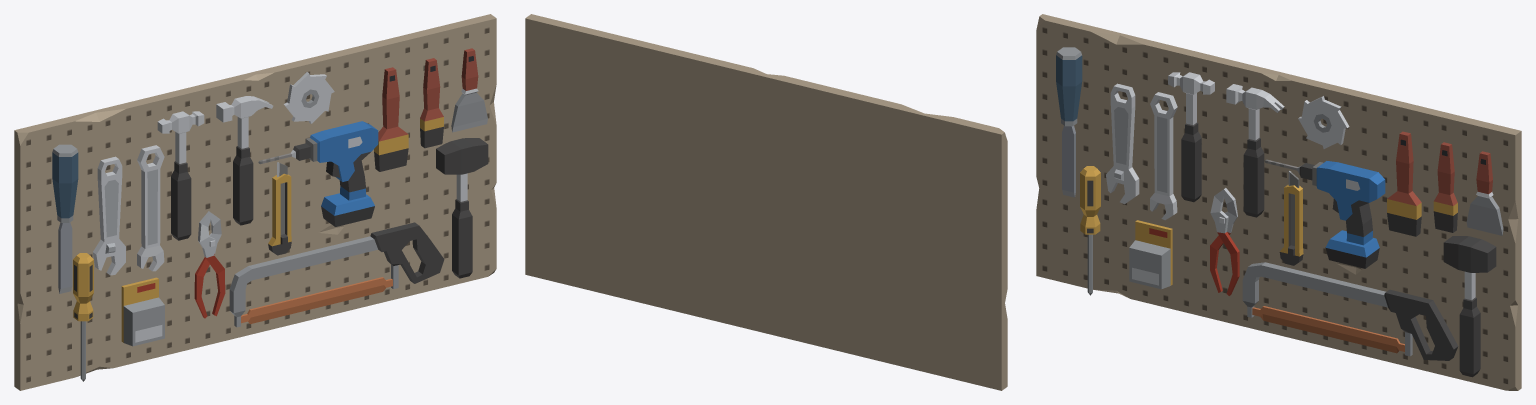
The model's file is SM_Prop_ToolBoard_01_Combined.fbx.
3 renders of one model, left to right at view 1: azimuth 30°, elevation 25°; view 2: azimuth 150°, elevation 25°; view 3: azimuth 330°, elevation 25°, orthographic.
Parts seen in each view (by area): view 1: SM_Prop_ToolBoard_01_Combined; view 2: SM_Prop_ToolBoard_01_Combined; view 3: SM_Prop_ToolBoard_01_Combined.
Part boxes in pixels (box(x1,y1,x2,y2)): SM_Prop_ToolBoard_01_Combined: box(14, 14, 496, 390); SM_Prop_ToolBoard_01_Combined: box(525, 14, 1007, 390); SM_Prop_ToolBoard_01_Combined: box(1036, 14, 1521, 390).
Bounding box in the file's own units: 187 × 96.82 × 13.19.
